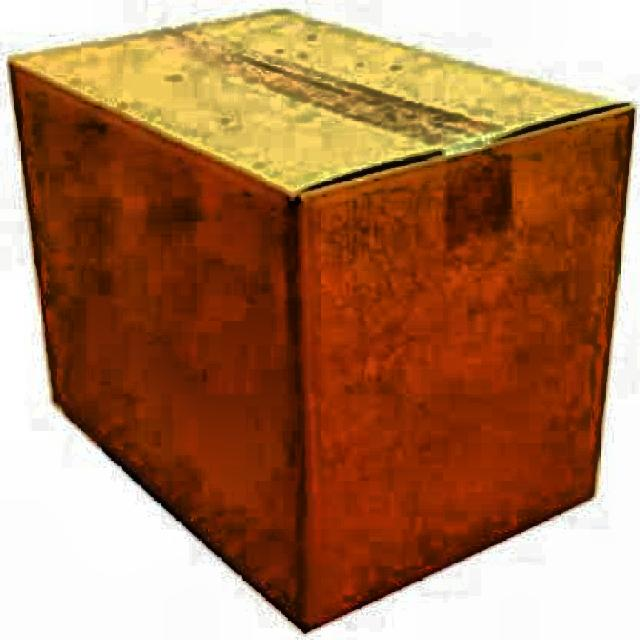Cardbox: (14, 0, 640, 638)
